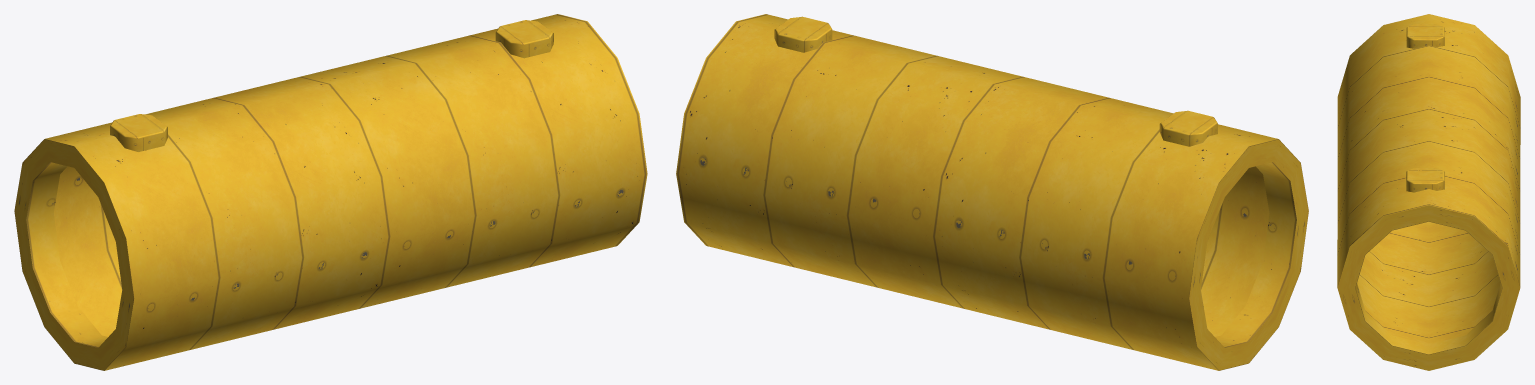
File: Ob_Crate2_RC.fbx
3 renders of one model, left to right at view 1: azimuth 30°, elevation 25°; view 2: azimuth 150°, elevation 25°; view 3: azimuth 270°, elevation 25°, orthographic. The views are drawn at different scales.
Visible parts, largest first — view 1: Ob_Crate2_RC; view 2: Ob_Crate2_RC; view 3: Ob_Crate2_RC.
Boxes of the visible parts, x1,y1,x2,y2 form: Ob_Crate2_RC: (14, 14, 647, 370); Ob_Crate2_RC: (676, 14, 1308, 370); Ob_Crate2_RC: (1337, 14, 1520, 370).
Size of the model in its own units: 2180 by 912 by 882.
